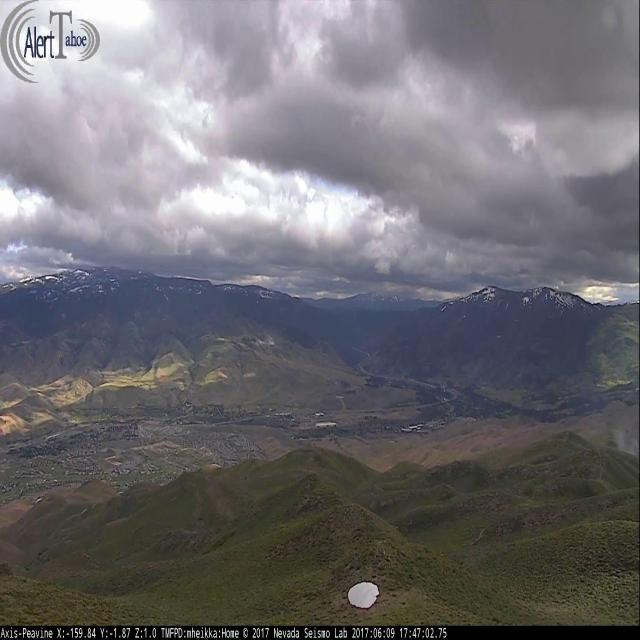smoke: (609, 413, 640, 458)
